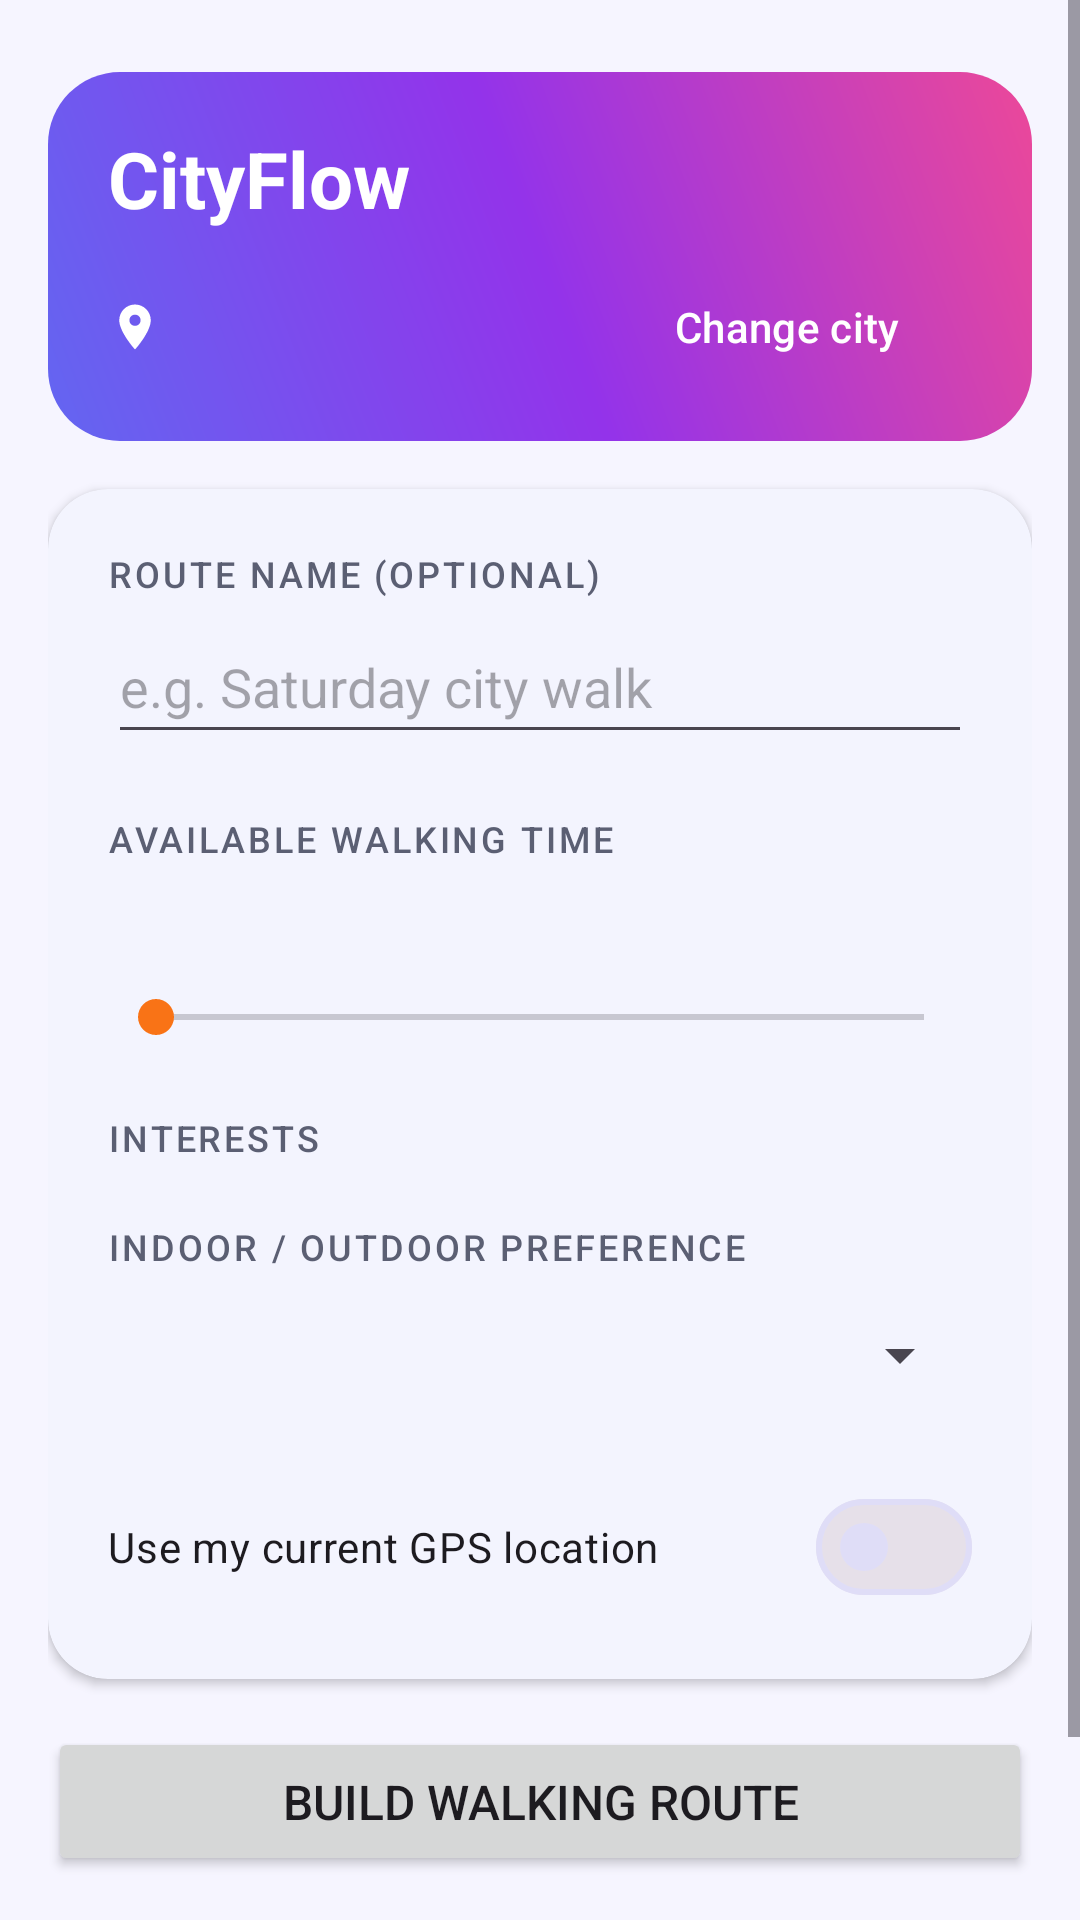

Icons on this 1080px x 1920px Android screen, each with the point to tap as (x=x, y=y):
place: (x=135, y=326)
